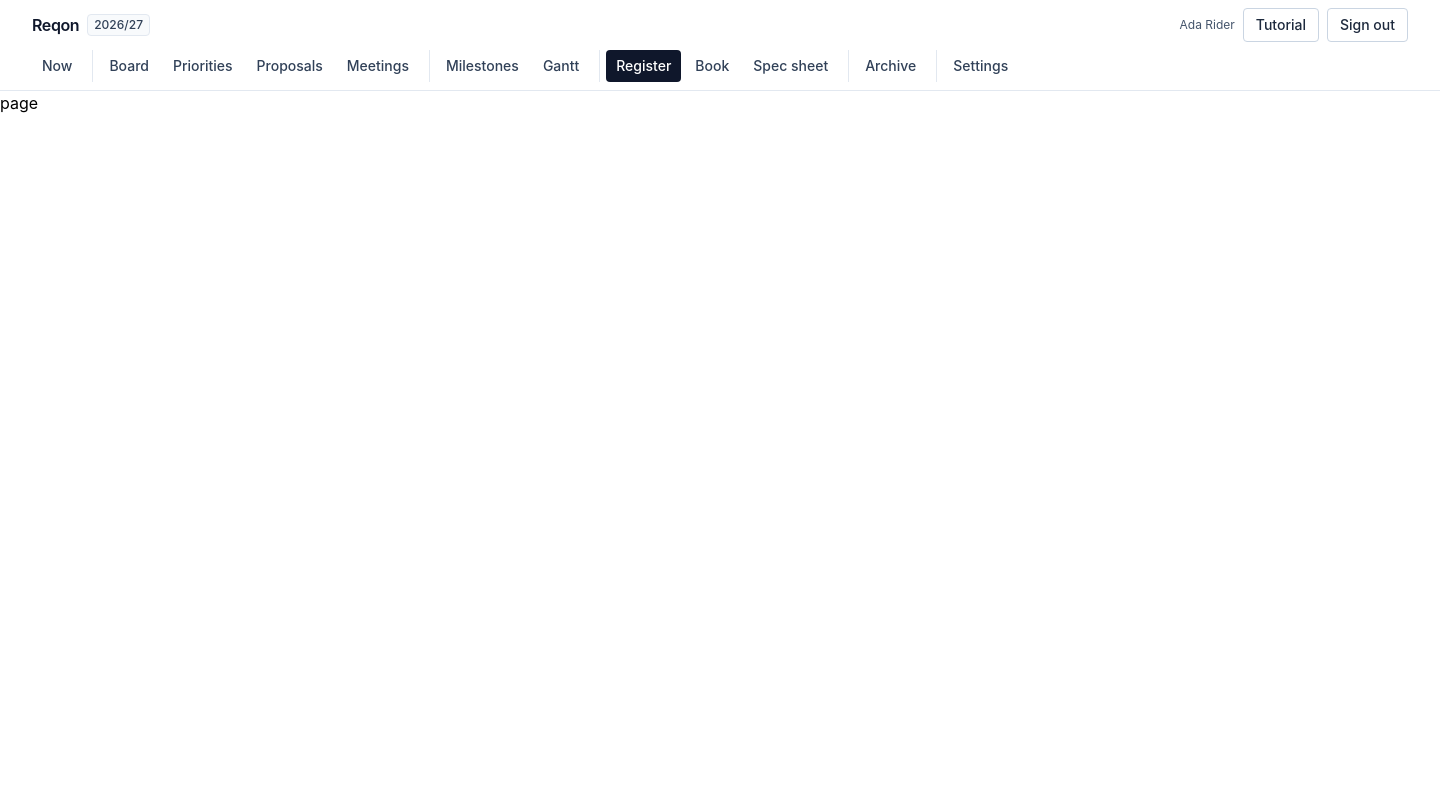
it: tutorial entry point › opens the tour chooser from the header, and the full tour starts from there
Step 1. Click the button "Tutorial" → (1281, 25), box [1243,8,1319,42]
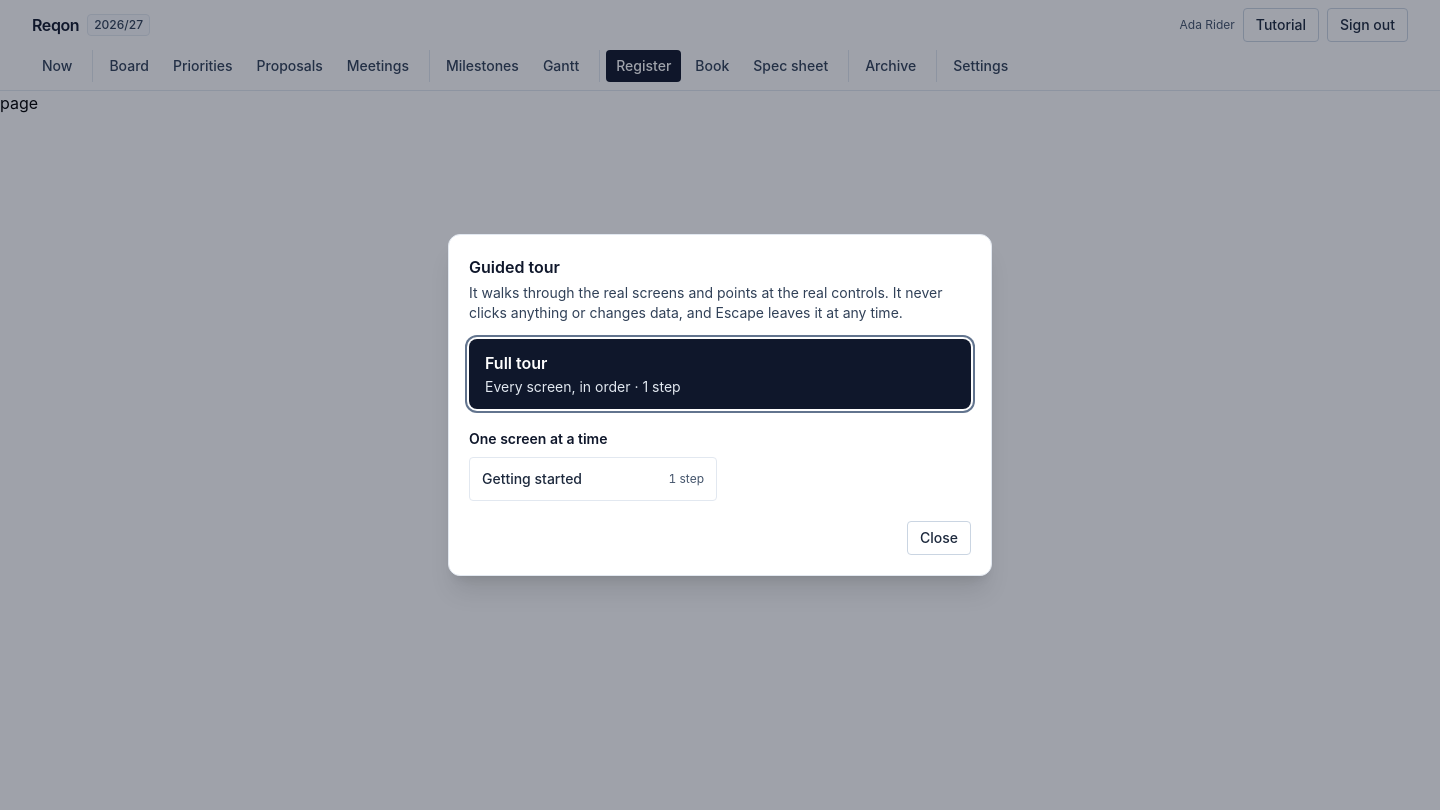
Step 2. Click the button "Full tour Every screen, in order · 1 step" → (516, 363), box [469,339,971,409]
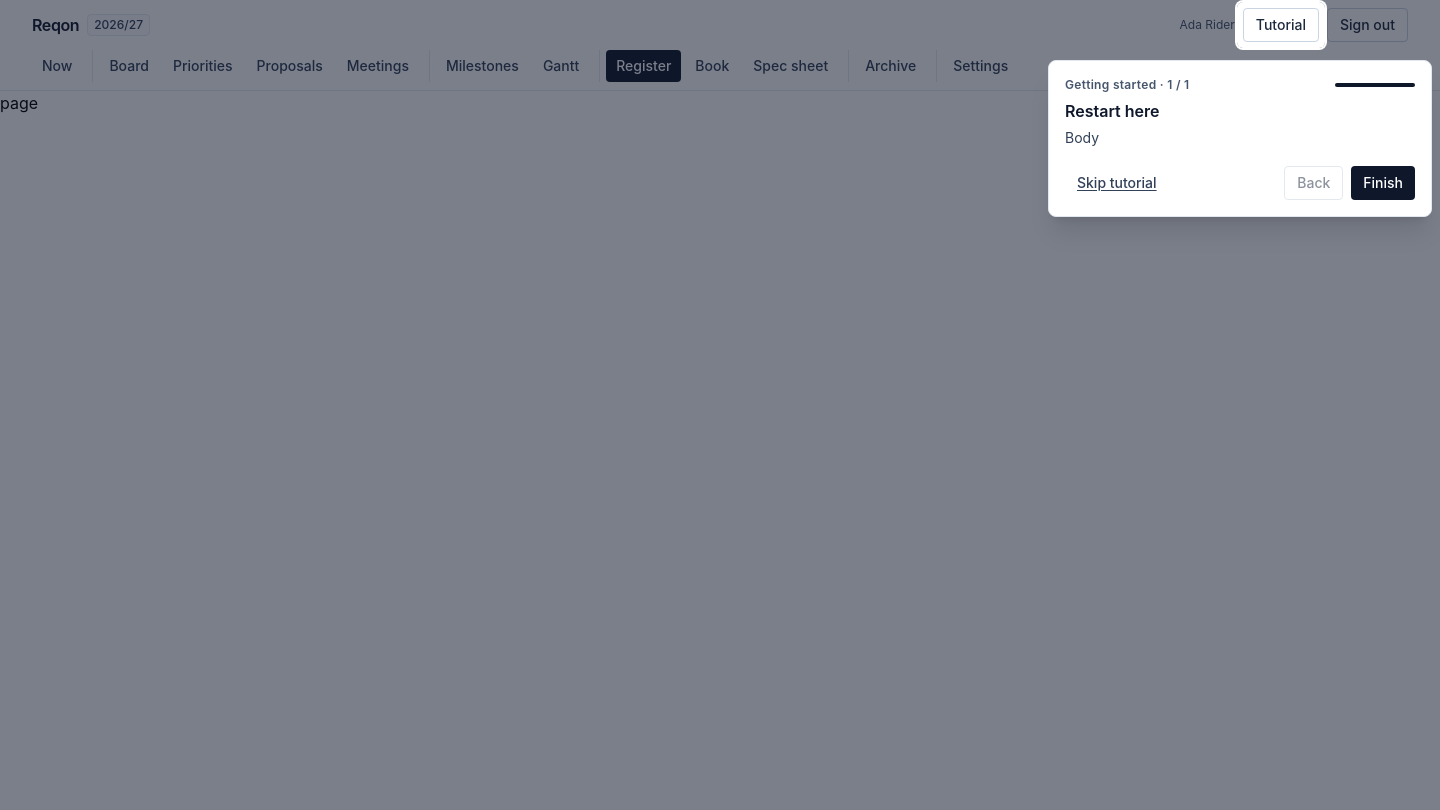
Expected: the dialog "Restart here" is shown, [1048,60,1432,217]
